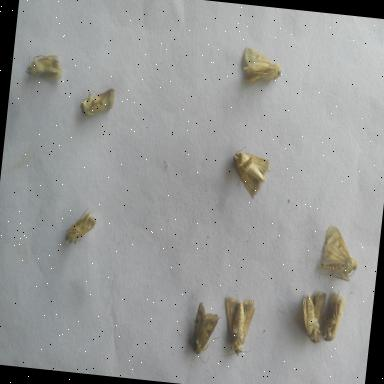abw: (310, 220, 364, 290), (211, 293, 260, 368), (224, 140, 276, 206), (234, 41, 289, 98), (182, 297, 226, 368), (294, 285, 332, 351), (314, 282, 352, 348), (19, 44, 71, 88), (75, 79, 123, 125), (58, 205, 102, 254)
